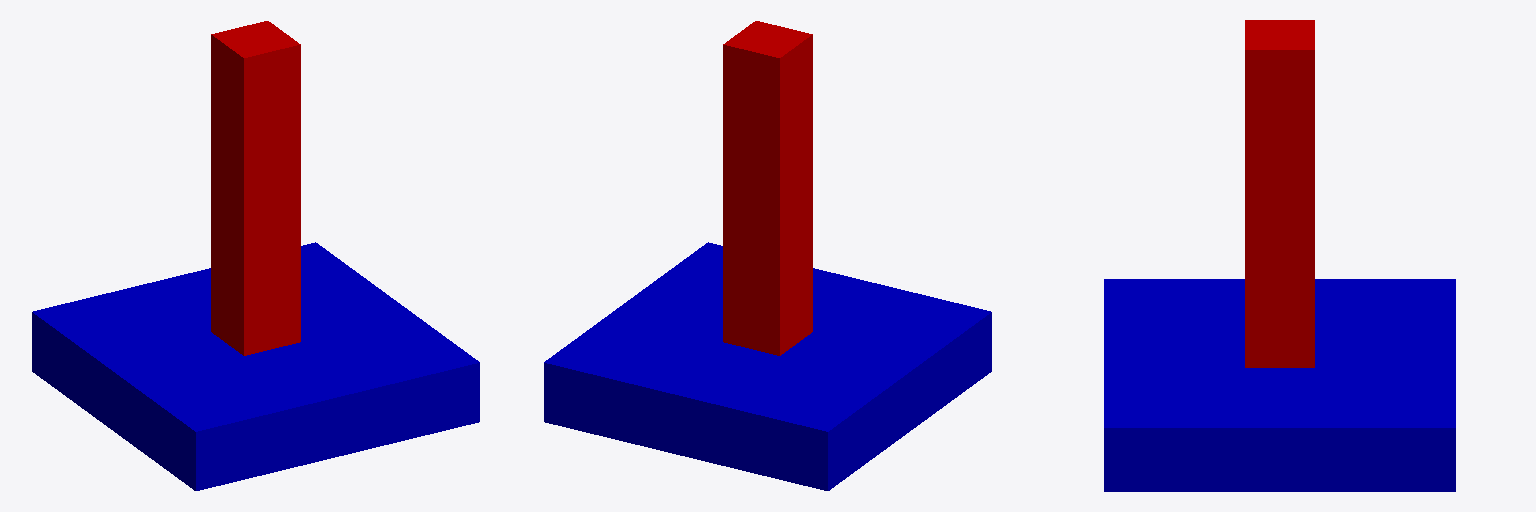
URDF robot description (simple_robot):
<?xml version="1.0"?>
<robot name="simple_robot">
  <link name="base_link">
    <visual>
      <geometry>
        <box size="0.5 0.5 0.1"/>
      </geometry>
      <material name="blue">
        <color rgba="0 0 0.8 1"/>
      </material>
    </visual>
  </link>
  
  <link name="arm_link">
    <visual>
      <geometry>
        <box size="0.1 0.1 0.5"/>
      </geometry>
      <material name="red">
        <color rgba="0.8 0 0 1"/>
      </material>
    </visual>
  </link>
  
  <joint name="base_to_arm" type="revolute">
    <parent link="base_link"/>
    <child link="arm_link"/>
    <axis xyz="0 1 0"/>
    <origin xyz="0 0 0.3"/>
    <limit lower="-1.57" upper="1.57" effort="10" velocity="3"/>
  </joint>
</robot> 

--- Render facts (derived) ---
The picture shows the robot from 3 angles, left to right: view 1: azimuth 30°, elevation 25°; view 2: azimuth 150°, elevation 25°; view 3: azimuth 270°, elevation 25°; orthographic projection.
Robot: simple_robot — 2 links, 1 joints (1 revolute); root link base_link; default pose: every joint at zero.
Visible links, largest first — view 1: base_link, arm_link; view 2: base_link, arm_link; view 3: base_link, arm_link.
Boxes of the visible links, <box> form: base_link: <box>32,242,479,490</box>; arm_link: <box>211,21,300,355</box>; base_link: <box>544,242,991,490</box>; arm_link: <box>723,21,812,355</box>; base_link: <box>1104,279,1455,491</box>; arm_link: <box>1245,20,1314,367</box>.
Size in the robot's own frame: 0.5 by 0.5 by 0.6 metres.
Geometry: primitives only (box / cylinder / sphere), no mesh files.